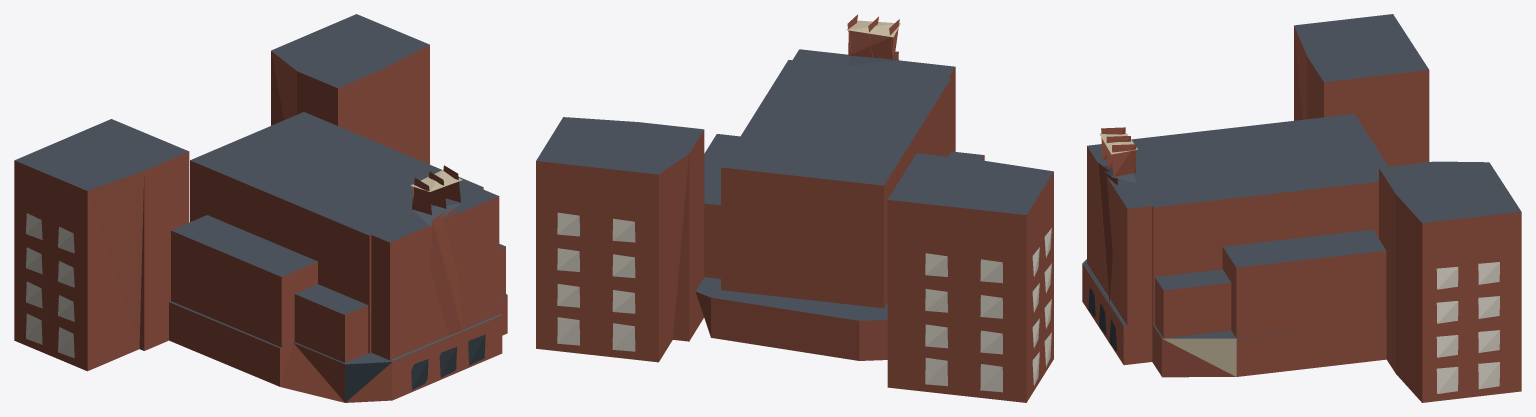
The model's file is jeruzalemkerk.lod2.glb.
3 renders of one model, left to right at view 1: azimuth 30°, elevation 25°; view 2: azimuth 150°, elevation 25°; view 3: azimuth 270°, elevation 25°, orthographic. The views are drawn at different scales.
Parts seen in each view (by area): view 1: lod2; view 2: lod2; view 3: lod2.
Part boxes in pixels (left/top/right/bottom): lod2: left=14, top=14, right=507, bottom=402; lod2: left=536, top=14, right=1053, bottom=402; lod2: left=1082, top=14, right=1521, bottom=402.
Size of the model in its own units: 40.83 by 17.81 by 36.2.
